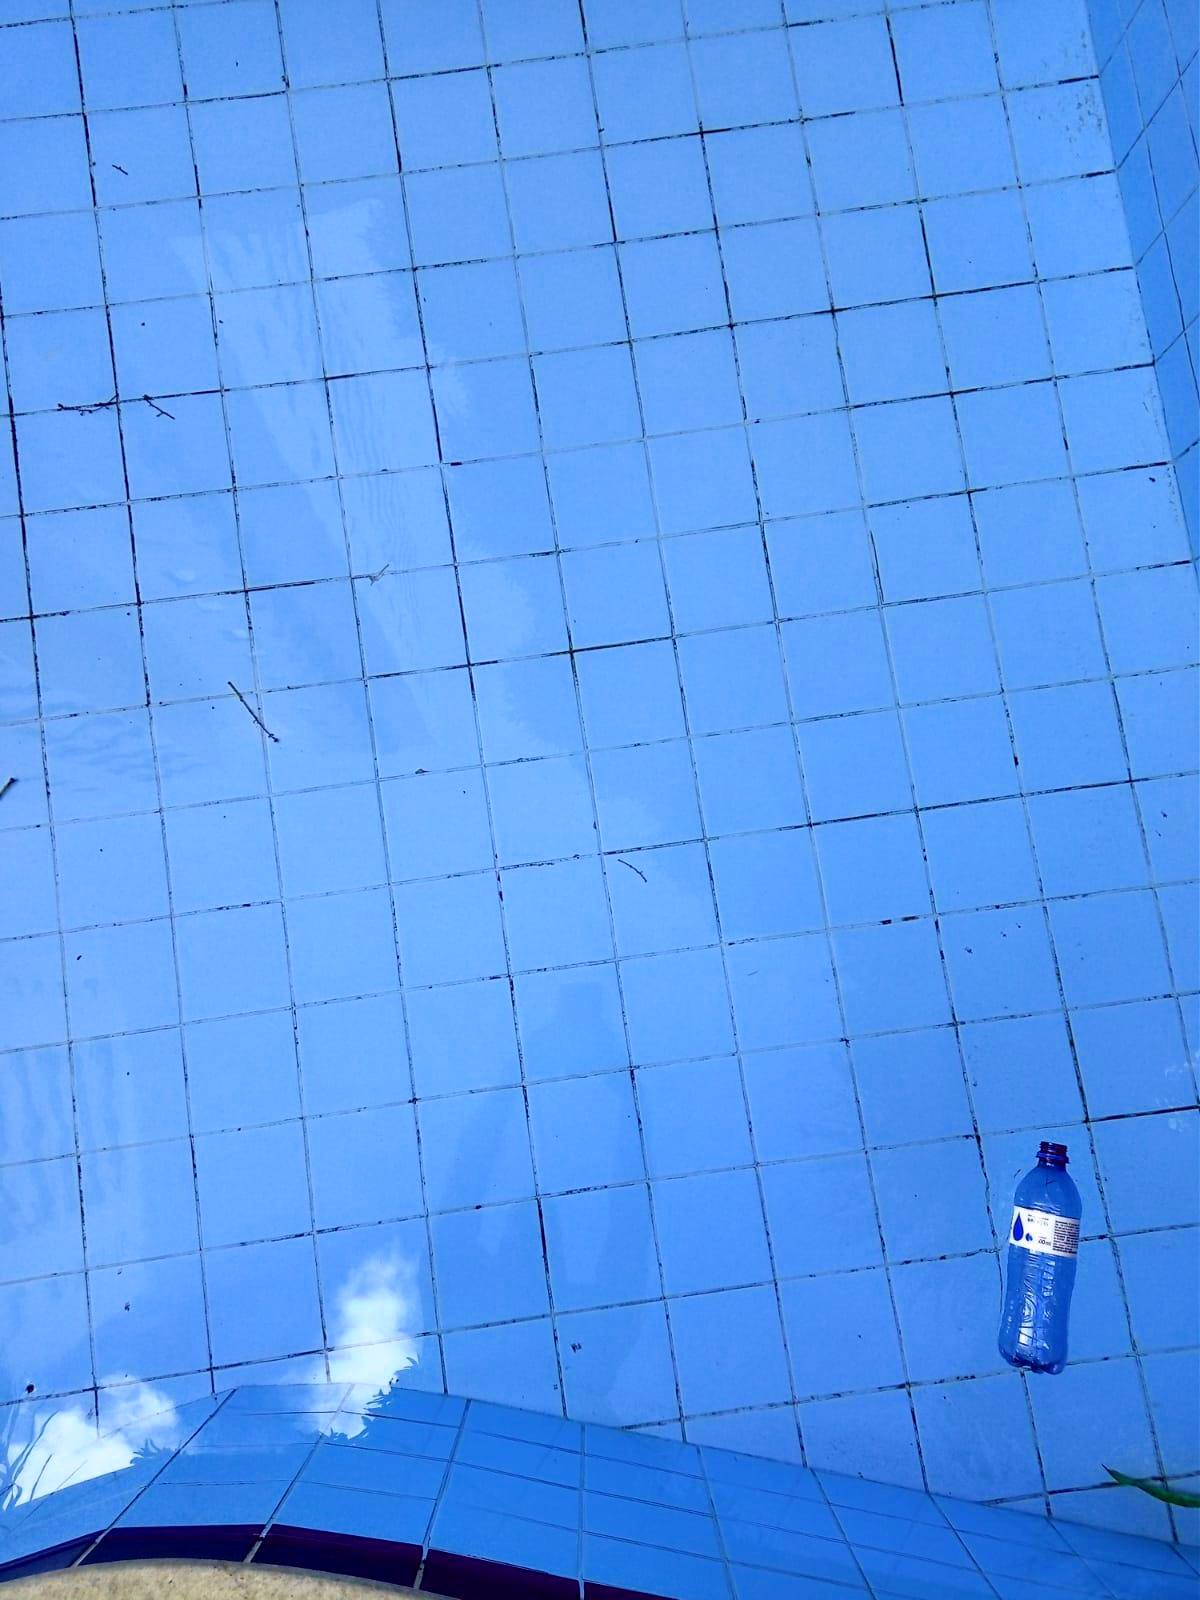Plastic: (952, 1060, 1121, 1420)
